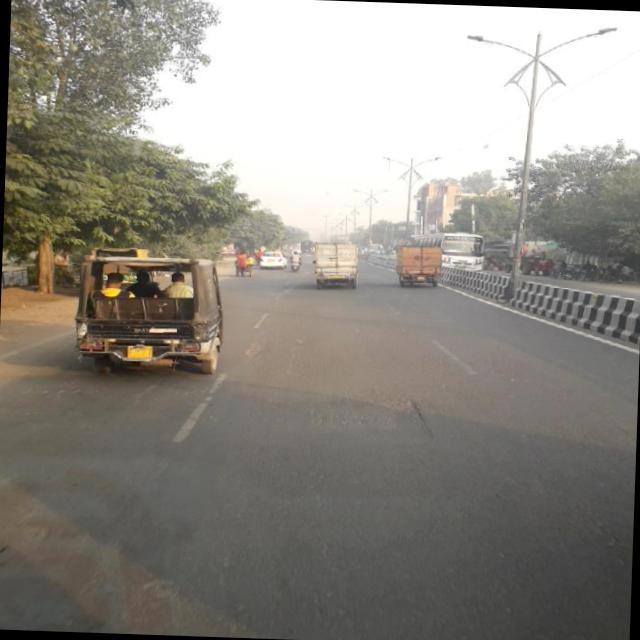crack: (404, 394, 438, 442)
